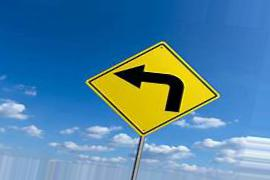left: (84, 41, 220, 137)
